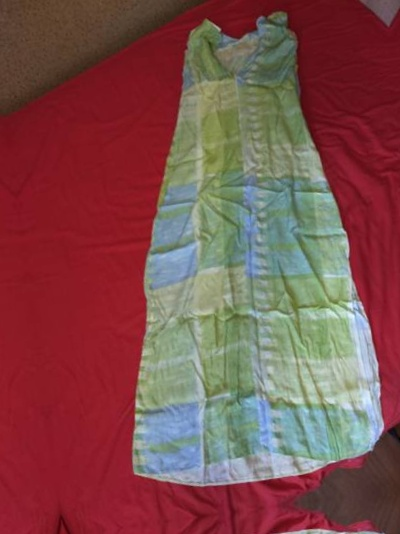Dress: (43, 0, 400, 515), (115, 500, 400, 534), (0, 38, 12, 534)
